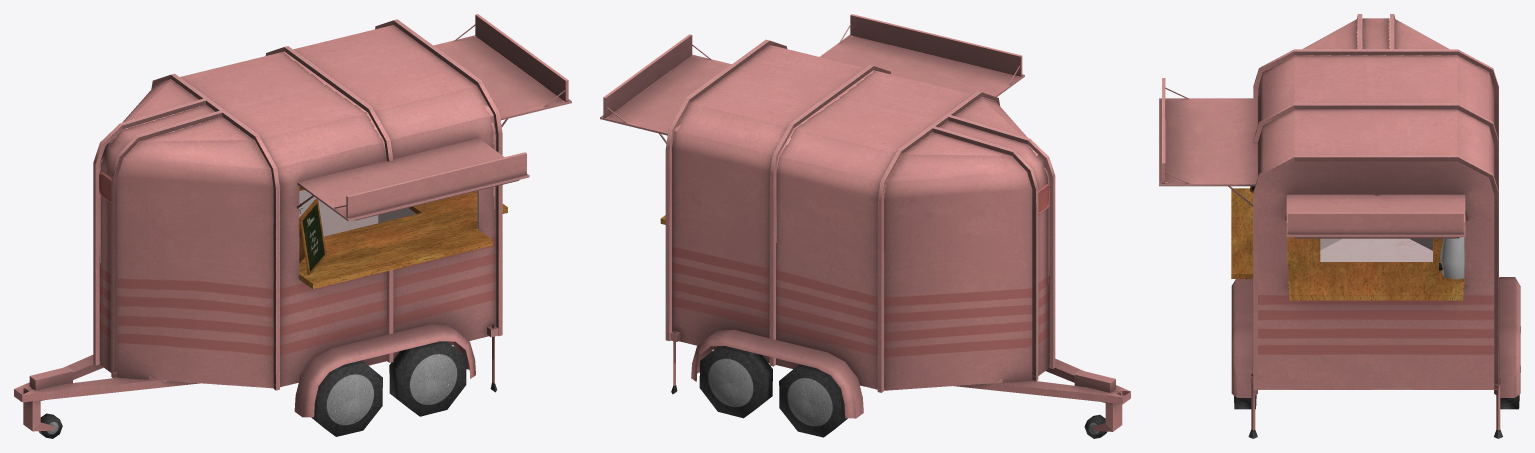
Rendered from Bespoke_travelling_Bar.fbx.
3 renders of one model, left to right at view 1: azimuth 30°, elevation 25°; view 2: azimuth 150°, elevation 25°; view 3: azimuth 270°, elevation 25°, orthographic. The views are drawn at different scales.
Parts seen in each view (by area): view 1: Out, In; view 2: Out; view 3: Out, In.
Boxes of the visible parts, x1,y1,x2,y2 form: Out: [14, 14, 571, 438]; In: [299, 186, 507, 289]; Out: [600, 14, 1130, 438]; Out: [1159, 14, 1520, 438]; In: [1231, 186, 1464, 300].
Size of the model in its own units: 48.65 by 26.75 by 30.85.
Materials: 2 (2 with a texture image).
